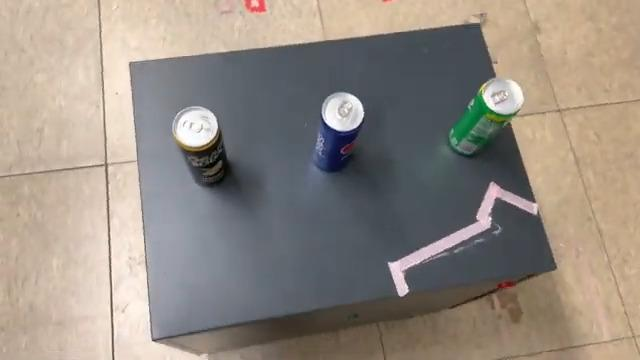OranSoda: (168, 104, 235, 190)
Pepsi: (306, 88, 368, 178)
Sprite: (444, 74, 528, 160)
